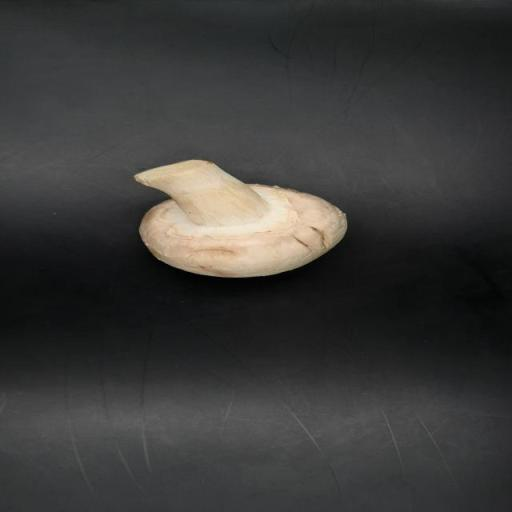Button Mushroom: (111, 141, 356, 318)
